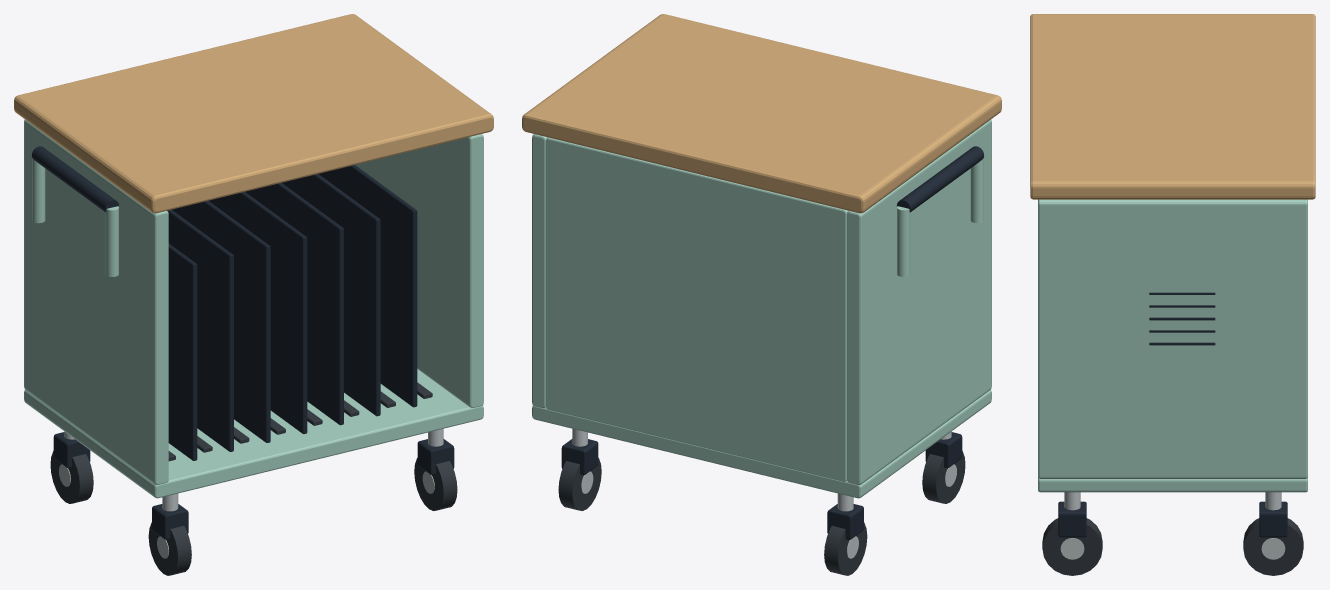
Rendered from cart.glb.
3 views of the same model, side by side, from view 1: azimuth 30°, elevation 25°; view 2: azimuth 150°, elevation 25°; view 3: azimuth 270°, elevation 25° (orthographic). The views are drawn at different scales.
Parts seen in each view (by area): view 1: birch_top, left_side, right_side, bottom_shelf, bay_divider_7, bay_divider_4, bay_divider_6, bay_divider_3, bay_divider_5, bay_divider_2, bay_divider_1, wheel (×3) (+4 smaller); view 2: rear_panel, birch_top, left_side, bottom_shelf, wheel (×3), right_side, caster_fork (×3), push_handle, handle_vertical_back, handle_vertical_front; view 3: right_side, birch_top, wheel (×2), bottom_shelf, caster_fork (×2), wheel_hub (×2).
Boxes of the visible parts, x1=… form: birch_top: x1=14, y1=14, x2=493, y2=213; left_side: x1=24, y1=119, x2=168, y2=484; right_side: x1=355, y1=134, x2=483, y2=407; bottom_shelf: x1=24, y1=369, x2=483, y2=498; bay_divider_7: x1=318, y1=165, x2=417, y2=407; bay_divider_4: x1=209, y1=192, x2=307, y2=433; bay_divider_6: x1=282, y1=174, x2=380, y2=416; bay_divider_3: x1=172, y1=200, x2=270, y2=442; bay_divider_5: x1=245, y1=183, x2=343, y2=425; bay_divider_2: x1=167, y1=209, x2=233, y2=451; bay_divider_1: x1=168, y1=243, x2=197, y2=460; wheel (×3): x1=50, y1=451, x2=457, y2=575; rear_panel: x1=546, y1=137, x2=848, y2=481; birch_top: x1=522, y1=14, x2=1001, y2=213; left_side: x1=847, y1=119, x2=991, y2=484; bottom_shelf: x1=532, y1=390, x2=991, y2=498; wheel (×3): x1=558, y1=451, x2=965, y2=575; right_side: x1=532, y1=134, x2=547, y2=407; caster_fork (×3): x1=561, y1=432, x2=962, y2=539; push_handle: x1=897, y1=146, x2=984, y2=212; handle_vertical_back: x1=897, y1=206, x2=910, y2=276; handle_vertical_front: x1=970, y1=158, x2=983, y2=223; right_side: x1=1038, y1=199, x2=1307, y2=478; birch_top: x1=1030, y1=14, x2=1315, y2=199; wheel (×2): x1=1042, y1=518, x2=1303, y2=575; bottom_shelf: x1=1038, y1=477, x2=1307, y2=492; caster_fork (×2): x1=1058, y1=501, x2=1287, y2=537; wheel_hub (×2): x1=1060, y1=538, x2=1285, y2=559.
Bounding box in the file's own units: 0.6715 × 0.718 × 0.455.
